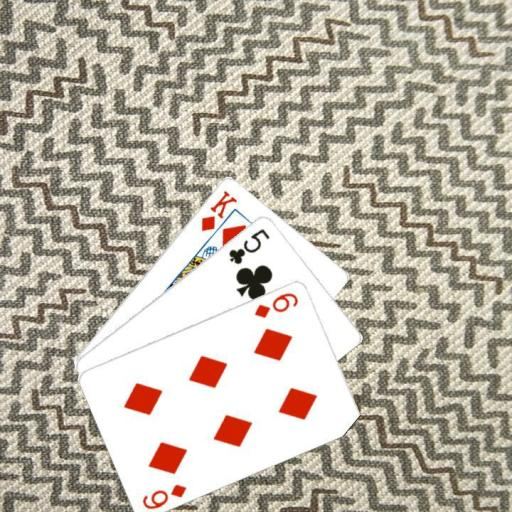5C: (226, 225, 272, 266)
6D: (140, 480, 189, 511), (251, 289, 300, 319)
KD: (198, 187, 239, 233)
